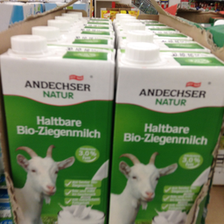milk: (2, 32, 111, 224), (113, 41, 220, 224)
